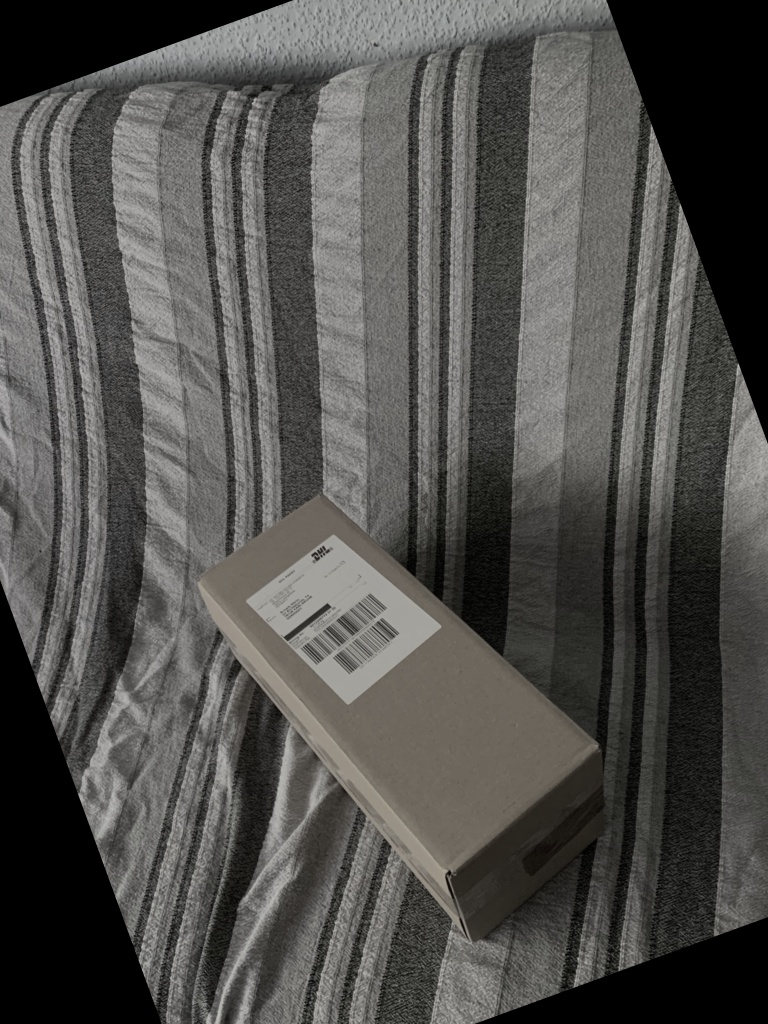good-parcel: (181, 496, 620, 943)
